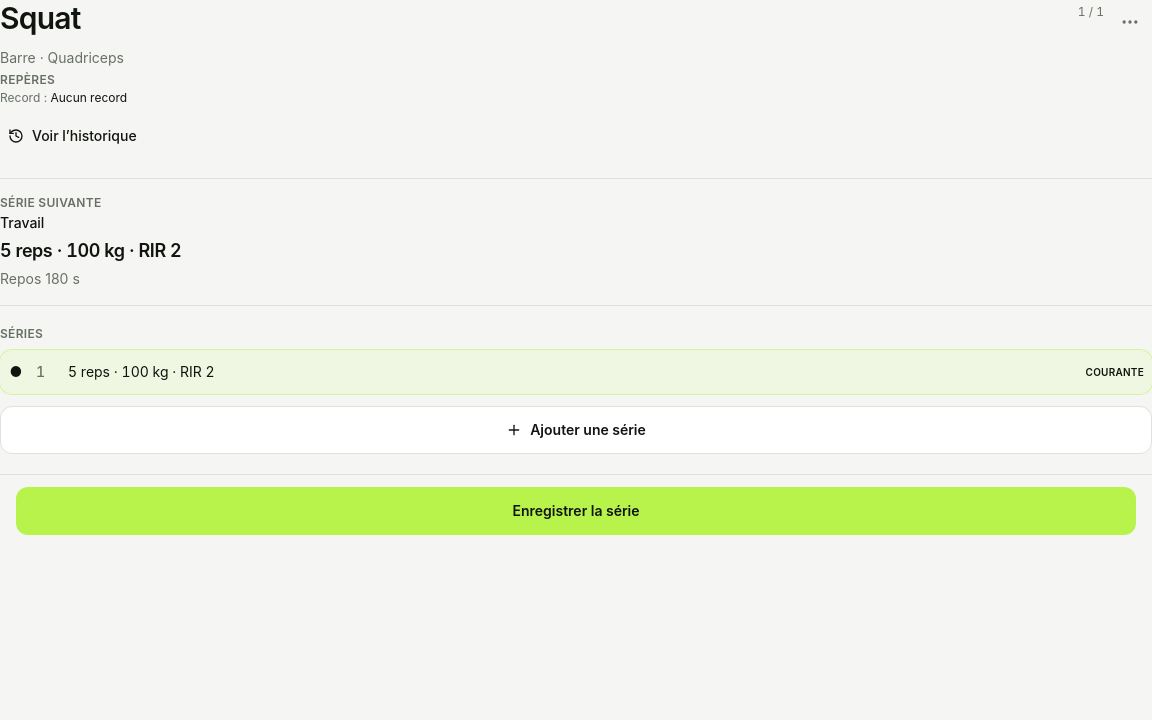
Test case: Modifier la cible d’une série pendant la séance › signale localement une saisie invalide sans appeler l’API
Click the button with aria-label "Série 1,": x=141, y=372 [0,350,1151,394]
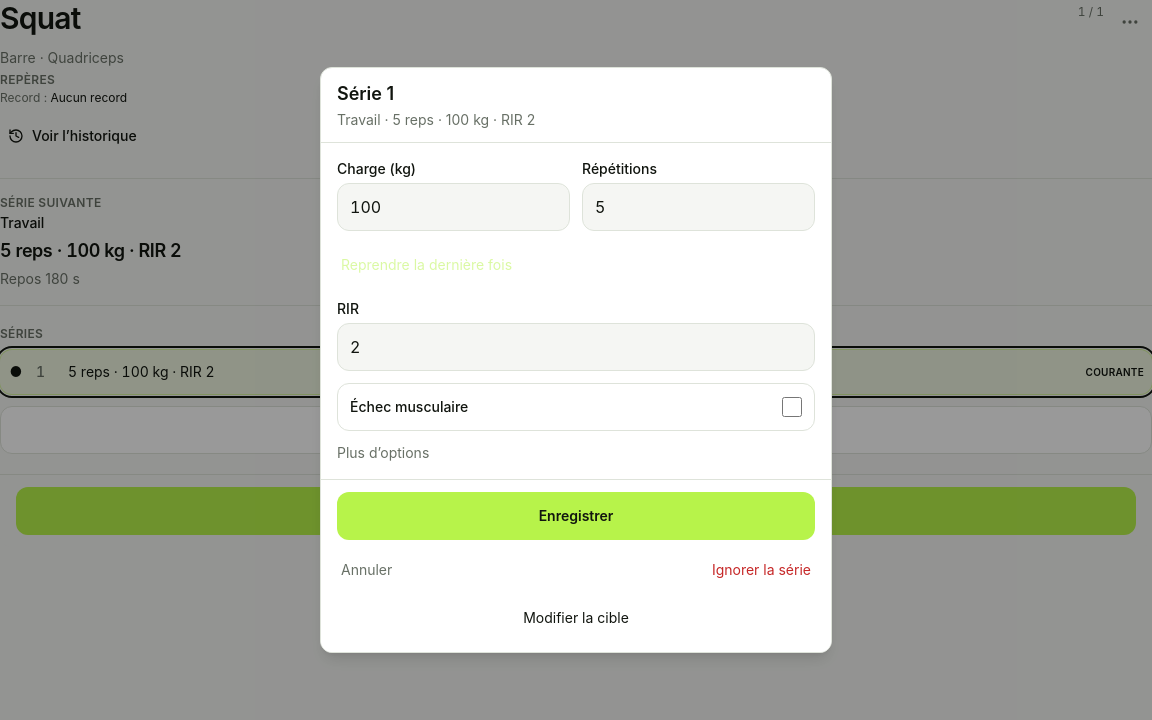
Click the button "Modifier la cible": x=576, y=618 [337,596,815,640]
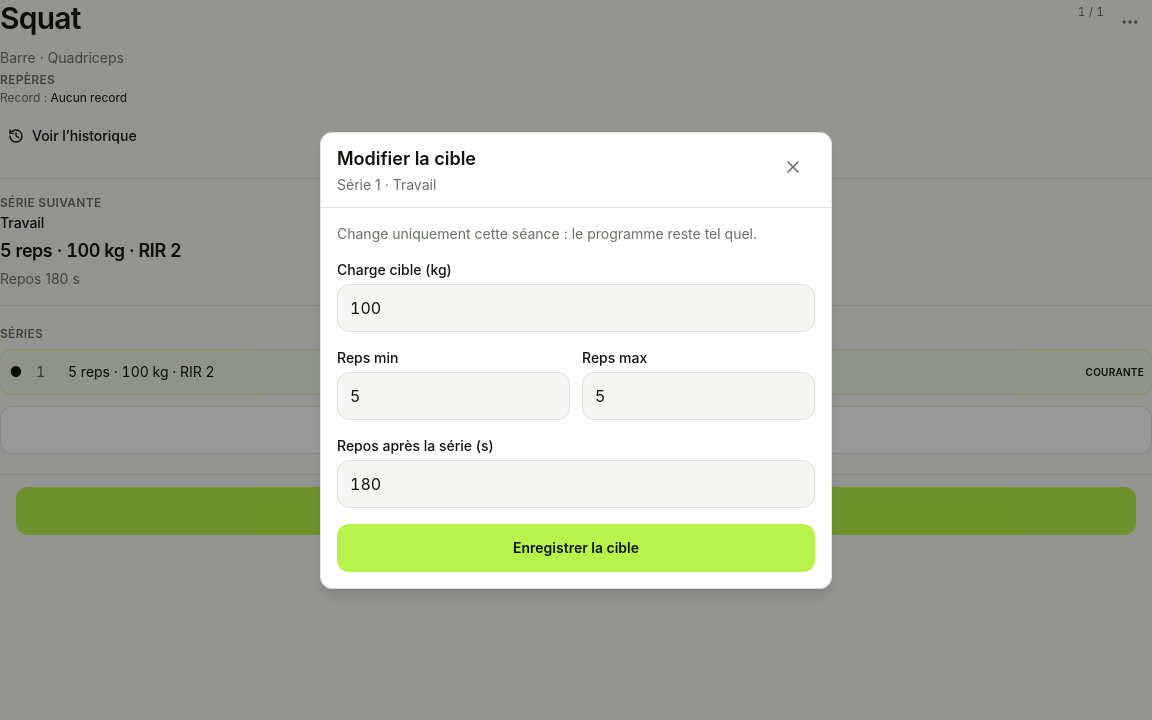
Replace the text in the field labelled "Reps min" with "9": x=454, y=396 [337,372,570,420]
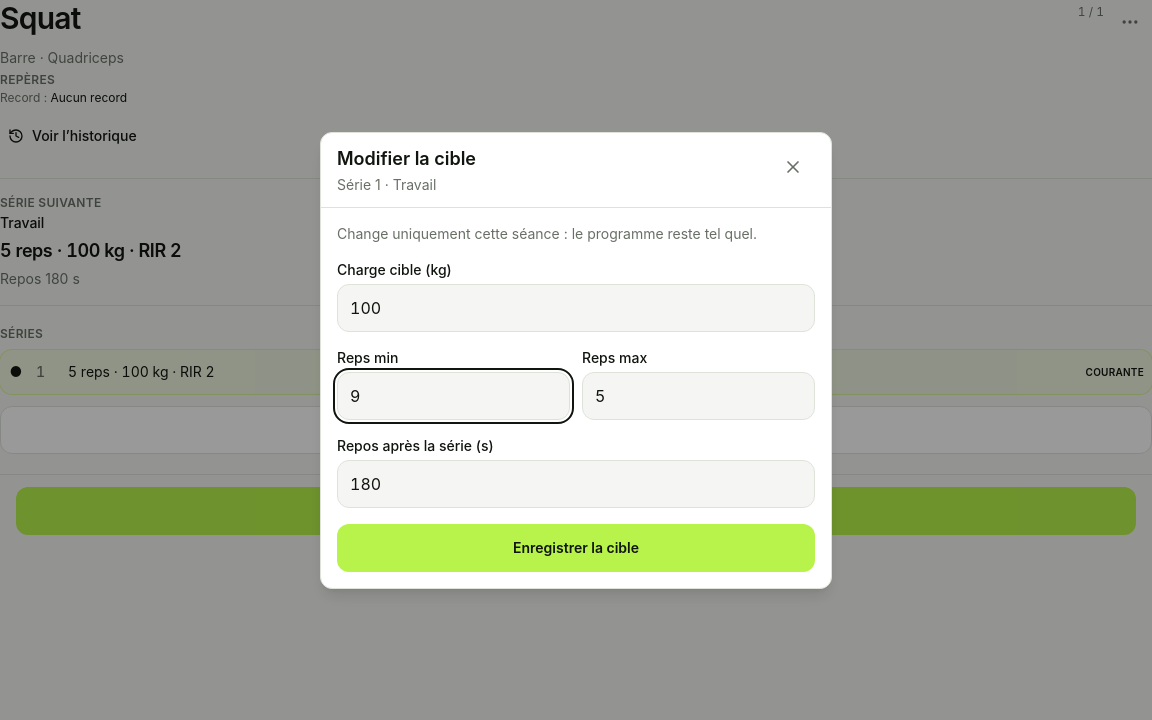
Click the button "Enregistrer la cible": x=576, y=548 [337,524,815,572]
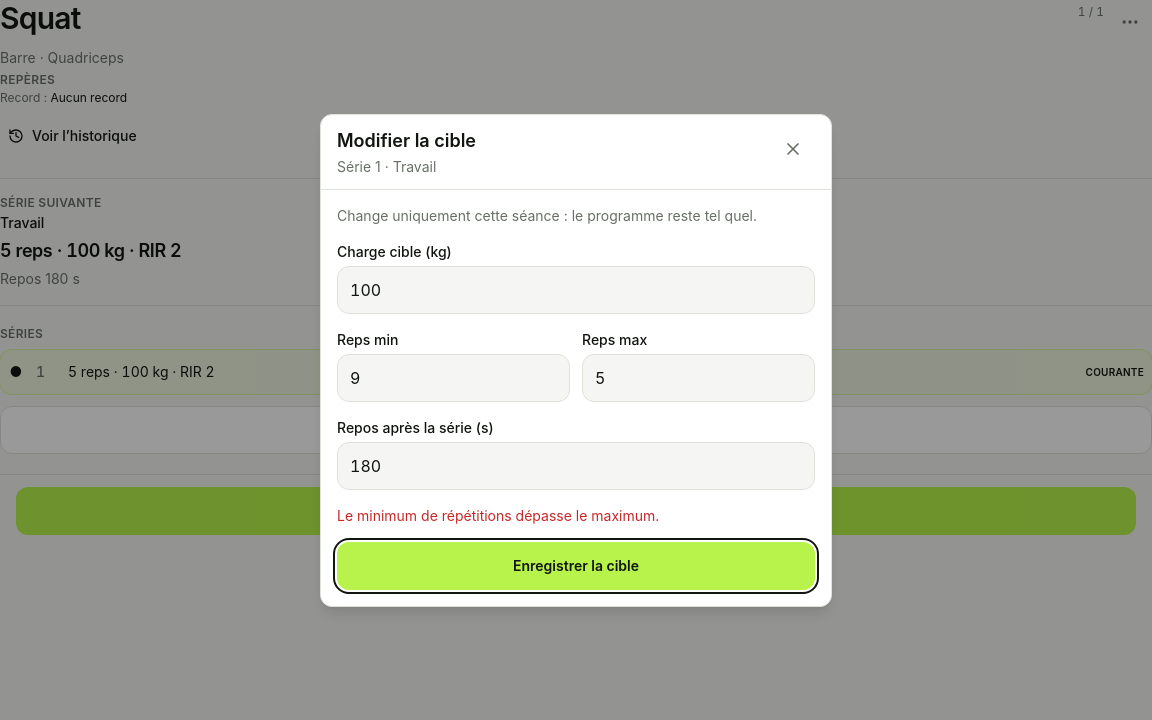
Check: the message reads "Le minimum de répétitions dépasse le maximum.", box [337,506,659,524]
